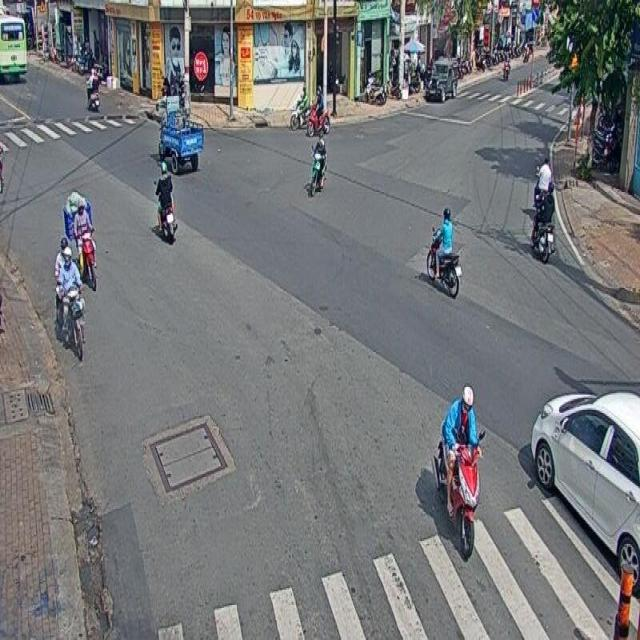car: (530, 390, 640, 591)
motorcycle: (432, 384, 486, 561), (54, 236, 84, 360), (426, 206, 462, 300), (73, 198, 97, 291), (532, 180, 556, 260), (154, 160, 176, 245), (310, 131, 326, 197)
